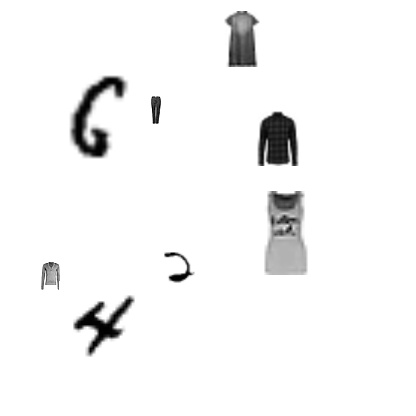2: (157, 248, 199, 290)
4: (59, 281, 143, 365)
6: (35, 61, 147, 173)
Dress: (213, 11, 269, 67)
Pullover: (36, 262, 64, 290)
Shirt: (250, 110, 306, 166)
T-shirt/top: (244, 191, 328, 275)
Trouser: (142, 96, 170, 124)
